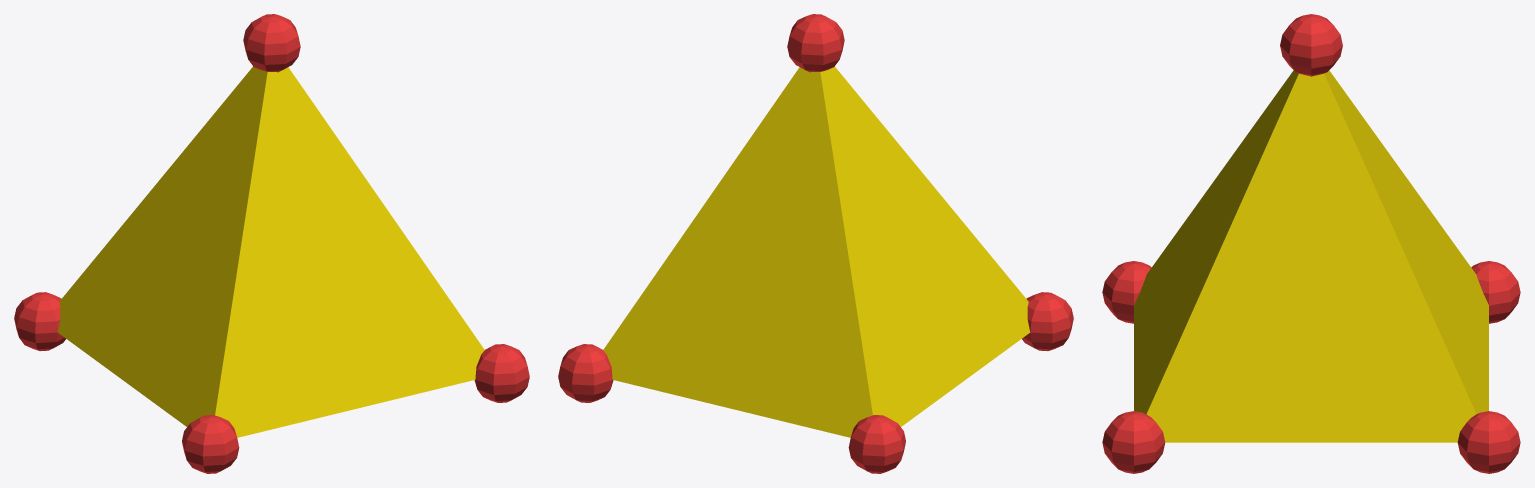
The model's file is basePyramid.glb.
3 views of the same model, side by side, from view 1: azimuth 30°, elevation 25°; view 2: azimuth 150°, elevation 25°; view 3: azimuth 270°, elevation 25° (orthographic). The views are drawn at different scales.
Parts seen in each view (by area): view 1: Cube, Sphere.001, Sphere, Sphere.003, Sphere.004; view 2: Cube, Sphere.004, Sphere, Sphere.002, Sphere.001; view 3: Cube, Sphere.002, Sphere.003, Sphere, Sphere.001, Sphere.004.
Boxes of the visible parts, x1,y1,x2,y2 form: Cube: (57,66,484,437); Sphere.001: (182,415,239,473); Sphere: (243,14,300,72); Sphere.003: (474,344,529,402); Sphere.004: (14,292,65,351); Cube: (603,66,1030,437); Sphere.004: (848,415,905,473); Sphere: (787,14,844,72); Sphere.002: (558,344,613,402); Sphere.001: (1022,292,1073,351); Cube: (1134,70,1488,442); Sphere.002: (1457,411,1520,473); Sphere.003: (1102,411,1165,473); Sphere: (1280,14,1342,76); Sphere.001: (1102,261,1151,323); Sphere.004: (1471,261,1520,323).
Size of the model in its own units: 2.35 by 2.35 by 2.35.
